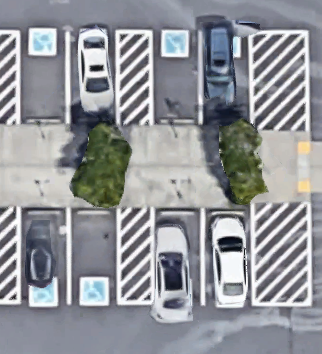Occupied: (153, 208, 204, 305), (202, 207, 253, 304), (18, 208, 69, 304), (68, 28, 119, 123), (201, 30, 252, 125)
Vacant: (151, 29, 202, 125), (68, 209, 118, 305), (19, 28, 68, 122)
